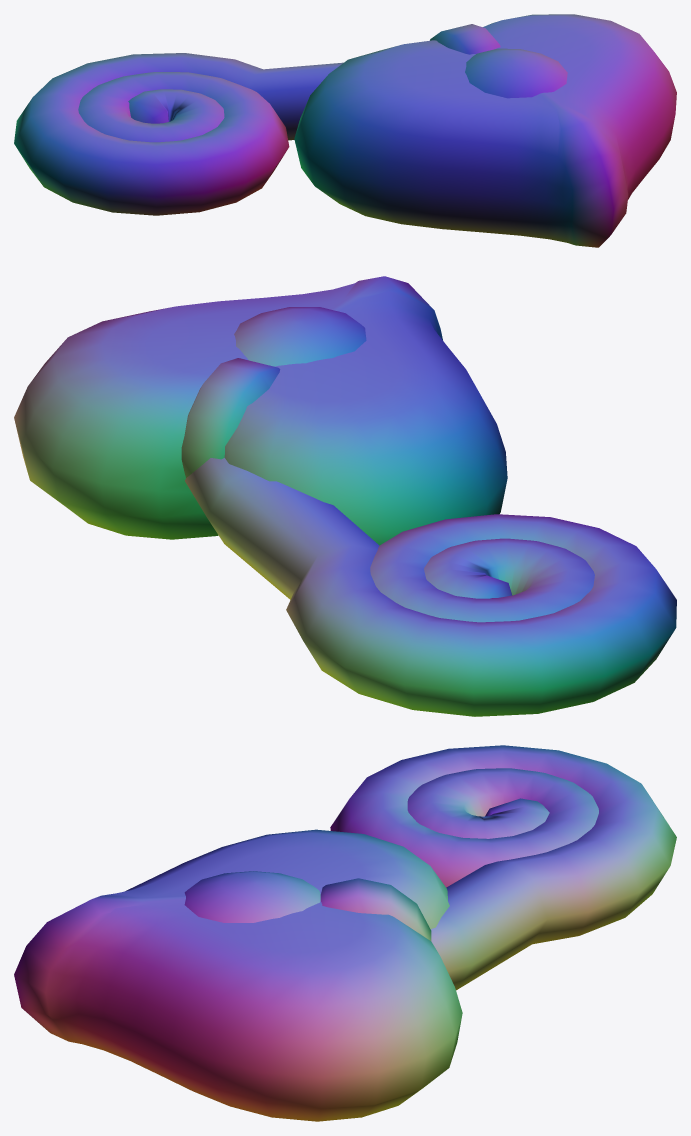
Rendered from SM_Pickup_Quest_Pendant.fbx.
3 views of the same model, one above another, from view 1: azimuth 30°, elevation 25°; view 2: azimuth 150°, elevation 25°; view 3: azimuth 270°, elevation 25° (orthographic). The views are drawn at different scales.
Visible parts, largest first — view 1: SM_Pickup_Quest_Pendant; view 2: SM_Pickup_Quest_Pendant; view 3: SM_Pickup_Quest_Pendant.
Boxes of the visible parts, box(x1,y1,x2,y2) form: SM_Pickup_Quest_Pendant: box(14, 14, 676, 247); SM_Pickup_Quest_Pendant: box(14, 276, 676, 716); SM_Pickup_Quest_Pendant: box(14, 745, 676, 1121).
Bounding box in the file's own units: 0.259 × 0.0588 × 0.2233.
